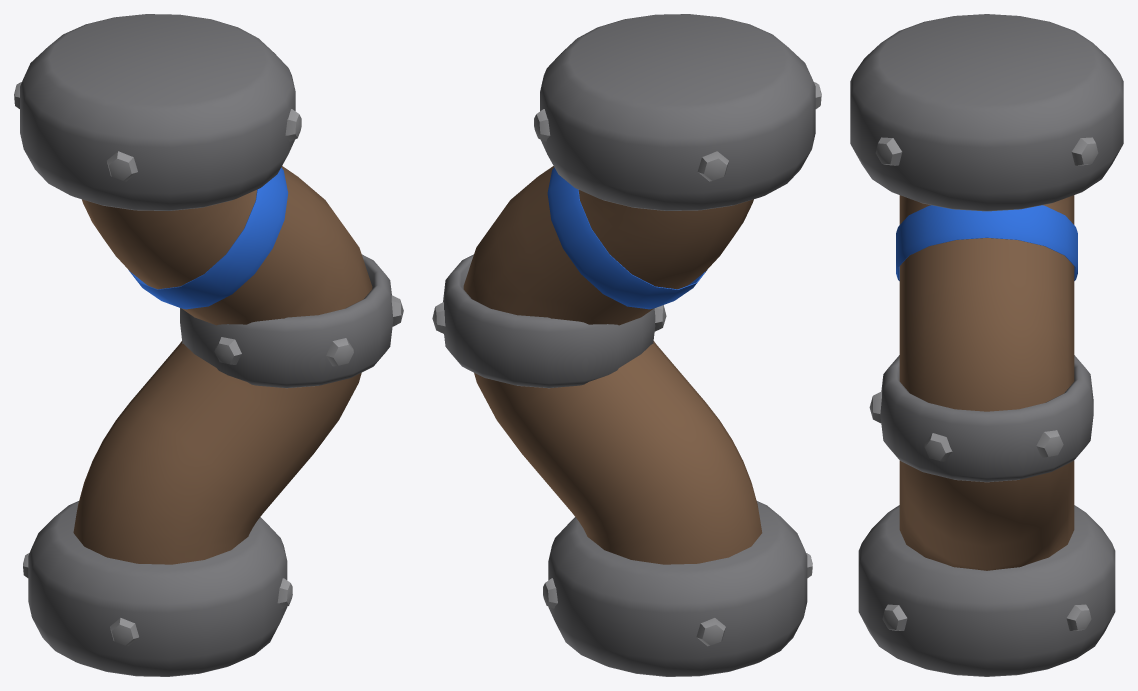
File: Kit_Limb_Curved_S.glb
3 renders of one model, left to right at view 1: azimuth 30°, elevation 25°; view 2: azimuth 150°, elevation 25°; view 3: azimuth 270°, elevation 25°, orthographic.
Parts seen in each view (by area): view 1: Kit_Limb_Curved_S; view 2: Kit_Limb_Curved_S; view 3: Kit_Limb_Curved_S.
Part boxes in pixels (bbox=[...]): Kit_Limb_Curved_S: bbox=[14, 14, 403, 676]; Kit_Limb_Curved_S: bbox=[432, 14, 821, 676]; Kit_Limb_Curved_S: bbox=[850, 14, 1123, 676].
Size of the model in its own units: 0.1626 by 0.2591 by 0.1125.
